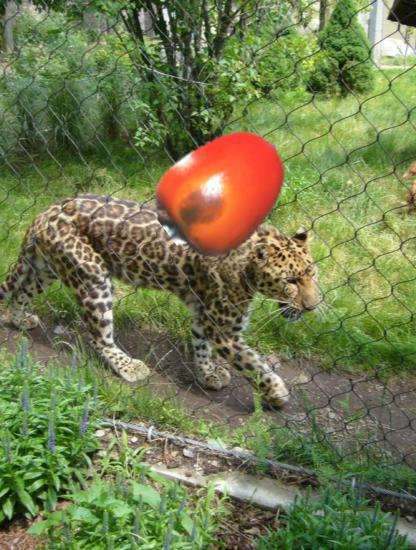Kaki: (154, 123, 294, 263)
